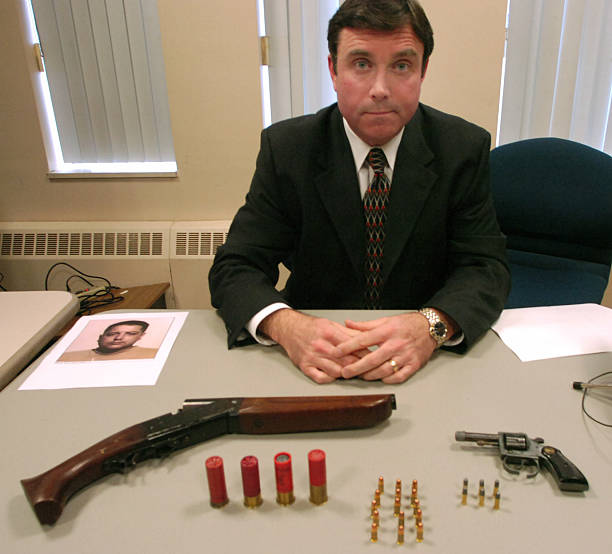pistol: (453, 424, 592, 494)
shotgun: (17, 392, 407, 479)
